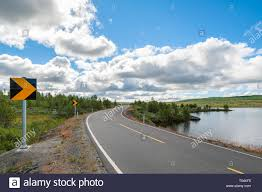strada: (93, 106, 251, 173)
